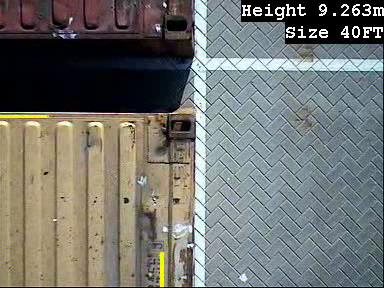groundmarker_2: (193, 7, 246, 114)
